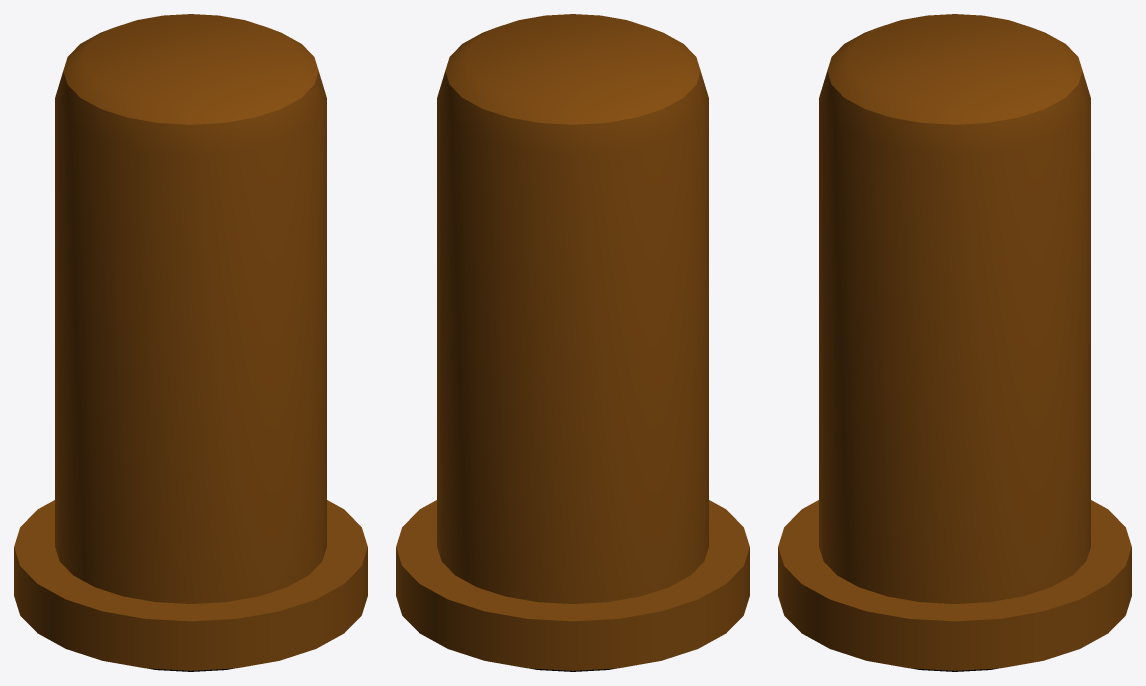
File: damga1.fbx
3 views of the same model, side by side, from view 1: azimuth 30°, elevation 25°; view 2: azimuth 150°, elevation 25°; view 3: azimuth 270°, elevation 25° (orthographic).
Parts seen in each view (by area): view 1: damga1; view 2: damga1; view 3: damga1.
Boxes of the visible parts, <box> form: damga1: <box>14,14,367,671</box>; damga1: <box>396,14,749,671</box>; damga1: <box>778,14,1131,671</box>.
Bounding box in the file's own units: 73.18 × 73.18 × 127.
